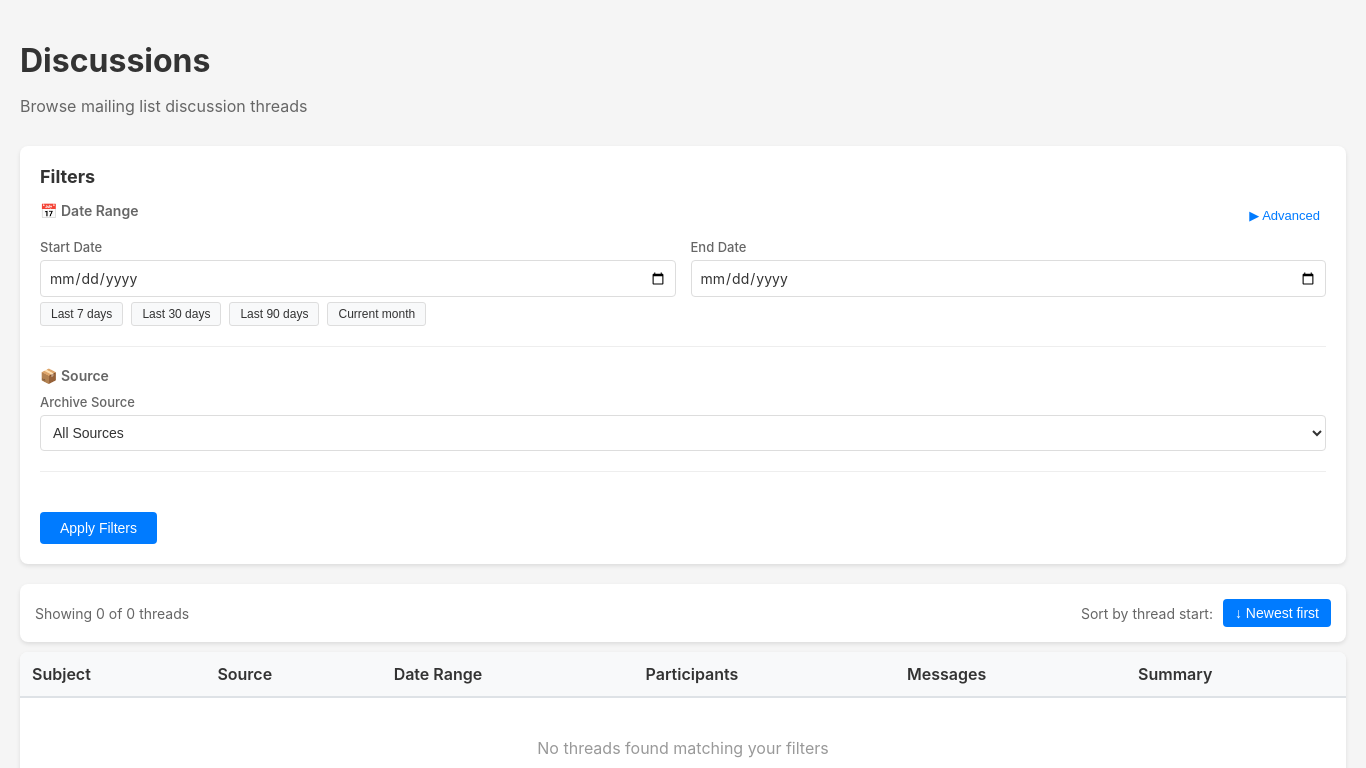
DiscussionsList › toggle advanced filters
Expected: the field labelled "Min Participants" is not shown
Click toggle button
Click the button "▶ Advanced" at (1285, 216), box 1243,207 -> 1326,224
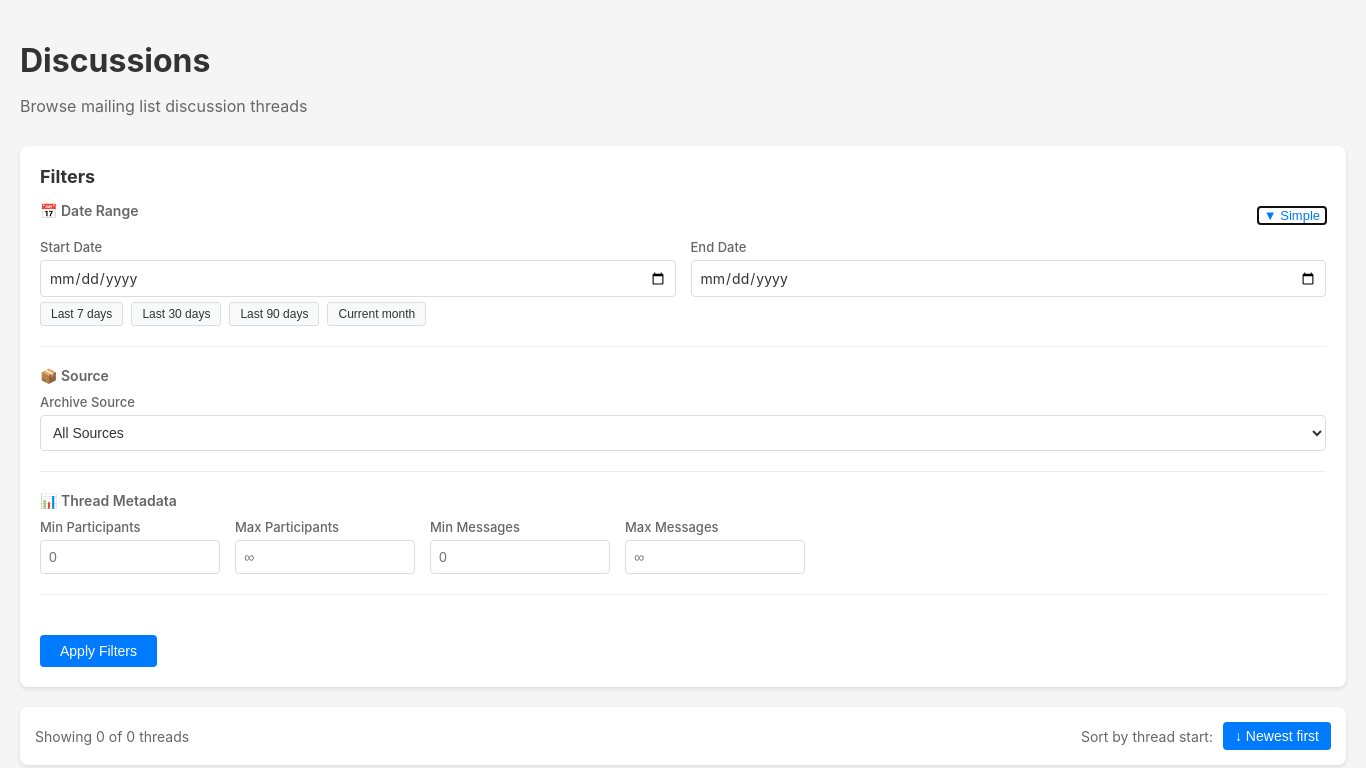
Expected: the number field labelled "Min Participants" is shown, 40,540 -> 220,574
